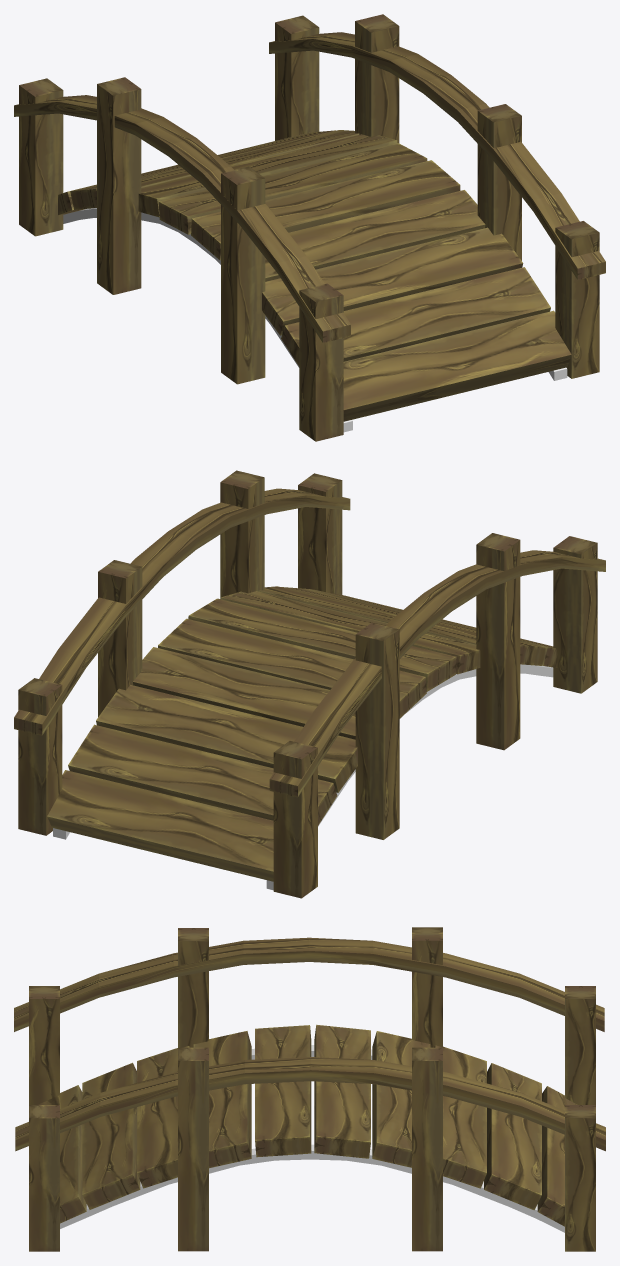
Rendered from BrückeMitGelände_01.fbx.
3 views of the same model, one above another, from view 1: azimuth 30°, elevation 25°; view 2: azimuth 150°, elevation 25°; view 3: azimuth 270°, elevation 25° (orthographic). The views are drawn at different scales.
Visible parts, largest first — view 1: Cube.029, Cube.028, Cube.020, Cube.027, Cube.003, Cube.031, Cube.011, Cube.004, Cube.025, Cube.002, Cube.023, Cube.005 (+8 smaller); view 2: Cube.009, Cube.019, Cube.007, Cube.020, Cube.003, Cube.011, Cube.031, Cube.006, Cube.005, Cube.023, Cube.002, Cube.025 (+9 smaller); view 3: Cube.003, Cube.020, Cube.010, Cube.012, Cube.025, Cube.005, Cube.028, Cube.019, Cube.007, Cube.004, Cube.013, Cube.001 (+9 smaller).
Boxes of the visible parts, box(x1,y1,x2,y2) form: Cube.029: box(340, 310, 579, 421); Cube.028: box(281, 267, 550, 366); Cube.020: box(269, 32, 605, 279); Cube.027: box(262, 227, 523, 335); Cube.003: box(14, 95, 350, 342); Cube.031: box(97, 77, 141, 294); Cube.011: box(221, 166, 265, 384); Cube.004: box(265, 190, 485, 281); Cube.025: box(191, 160, 460, 260); Cube.002: box(19, 78, 63, 236); Cube.023: box(299, 283, 343, 441); Cube.005: box(158, 143, 427, 234); Cube.009: box(47, 770, 273, 881); Cube.019: box(68, 724, 337, 825); Cube.007: box(96, 684, 357, 792); Cube.020: box(14, 488, 350, 735); Cube.003: box(269, 550, 605, 797); Cube.011: box(476, 533, 520, 750); Cube.031: box(355, 623, 399, 839); Cube.006: box(133, 647, 355, 739); Cube.005: box(158, 618, 426, 718); Cube.023: box(553, 536, 597, 693); Cube.002: box(273, 741, 317, 898); Cube.025: box(188, 598, 456, 691); Cube.003: box(14, 937, 604, 1031); Cube.020: box(15, 1057, 605, 1151); Cube.010: box(412, 1047, 442, 1251); Cube.012: box(178, 1047, 208, 1251); Cube.025: box(255, 1025, 311, 1157); Cube.005: box(314, 1024, 370, 1158); Cube.028: box(82, 1062, 140, 1209); Cube.019: box(484, 1063, 541, 1210); Cube.007: box(434, 1045, 486, 1188); Cube.004: box(193, 1031, 251, 1168); Cube.013: box(29, 1105, 59, 1251); Cube.001: box(565, 1105, 595, 1251).
Size of the model in its own units: 343 by 234 by 643.
Materials: 3 (3 with a texture image).
